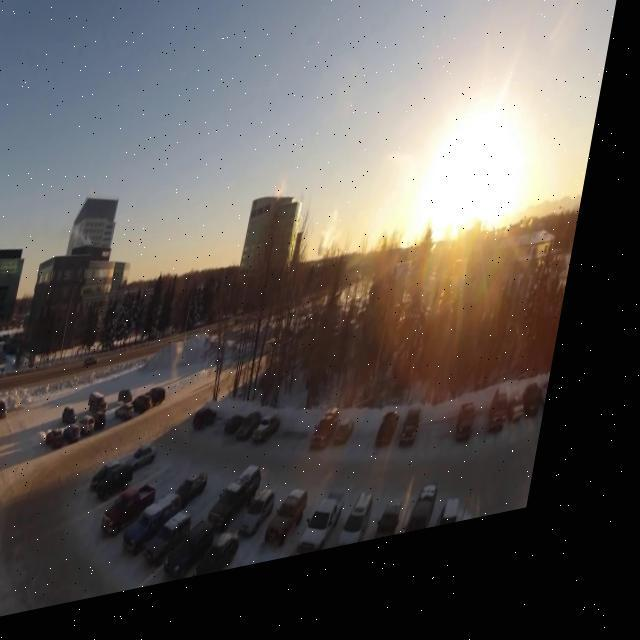Fire: (75, 228, 104, 254)
